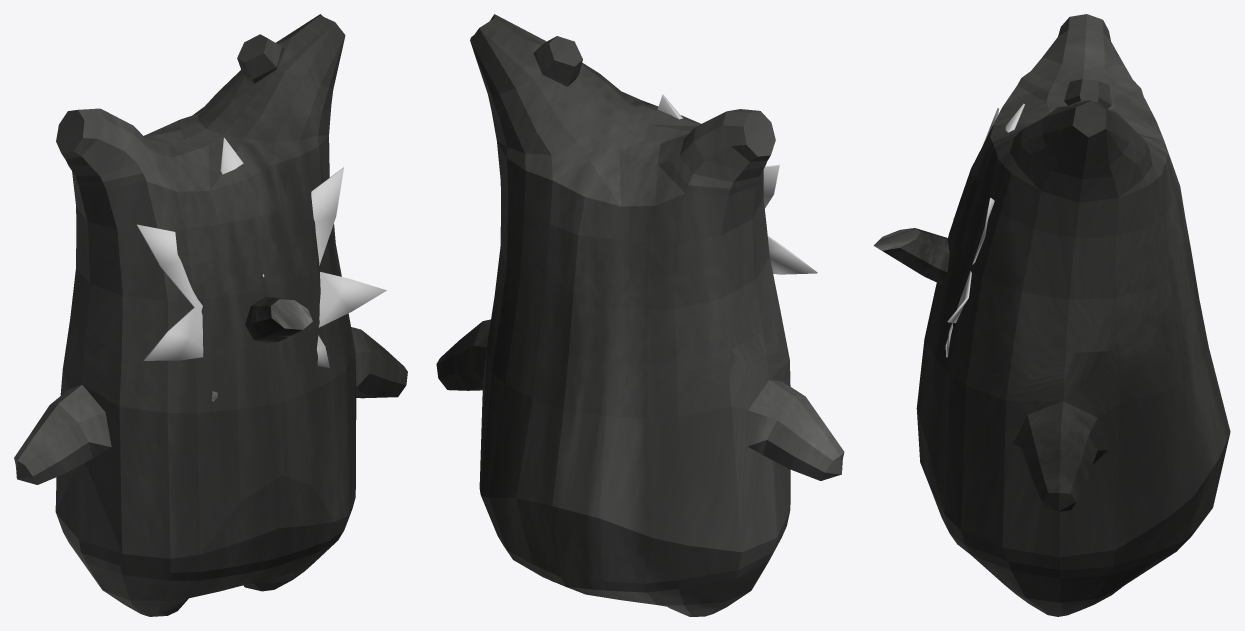
File: frame_0000.obj
3 views of the same model, side by side, from view 1: azimuth 30°, elevation 25°; view 2: azimuth 150°, elevation 25°; view 3: azimuth 270°, elevation 25° (orthographic). The views are drawn at different scales.
Parts seen in each view (by area): view 1: korok, leaf.003_柱体.013, nose.003_柱体.011; view 2: korok, leaf.003_柱体.013; view 3: korok, nose.003_柱体.011, leaf.003_柱体.013.
Boxes of the visible parts, left/top/right/bottom form: korok: left=14, top=14, right=407, bottom=616; leaf.003_柱体.013: left=136, top=137, right=386, bottom=401; nose.003_柱体.011: left=245, top=296, right=312, bottom=342; korok: left=436, top=14, right=844, bottom=616; leaf.003_柱体.013: left=657, top=94, right=817, bottom=274; korok: left=916, top=14, right=1230, bottom=616; nose.003_柱体.011: left=873, top=228, right=949, bottom=284; leaf.003_柱体.013: left=945, top=103, right=1024, bottom=357.
Size of the model in its own units: 1.68 by 2.25 by 1.33.
